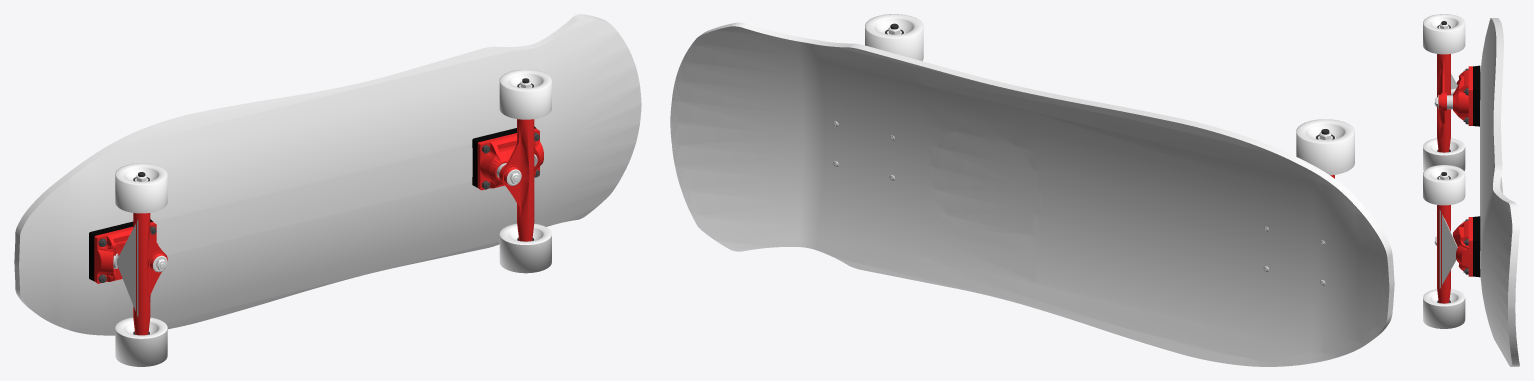
File: roskopp.fbx
The picture shows the model from 3 angles, left to right: view 1: azimuth 30°, elevation 25°; view 2: azimuth 150°, elevation 25°; view 3: azimuth 270°, elevation 25°; orthographic projection. The views are drawn at different scales.
Parts seen in each view (by area): view 1: Group_001, Group_017, Group_013, Group_025, Group_005, Group_012, Group_024, Group_021, Group_009, Group_003, Group_011, Group_023; view 2: Group_001, Group_013, Group_025; view 3: Group_001, Group_025, Group_013, Group_024, Group_005, Group_012, Group_009, Group_021, Group_017, Group_015, Group_023, Group_011.
Part boxes in pixels (left/top/right/bottom): Group_001: left=14, top=14, right=641, bottom=335; Group_017: left=499, top=119, right=534, bottom=241; Group_013: left=115, top=163, right=167, bottom=213; Group_025: left=499, top=69, right=551, bottom=119; Group_005: left=133, top=213, right=167, bottom=335; Group_012: left=115, top=317, right=167, bottom=366; Group_024: left=499, top=223, right=551, bottom=273; Group_021: left=477, top=128, right=543, bottom=190; Group_009: left=94, top=222, right=157, bottom=283; Group_003: left=117, top=219, right=138, bottom=317; Group_011: left=89, top=219, right=152, bottom=281; Group_023: left=472, top=126, right=535, bottom=187; Group_001: left=670, top=22, right=1394, bottom=366; Group_013: left=1296, top=119, right=1354, bottom=175; Group_025: left=865, top=14, right=923, bottom=61; Group_001: left=1480, top=18, right=1519, bottom=366; Group_025: left=1423, top=165, right=1465, bottom=205; Group_013: left=1423, top=14, right=1465, bottom=54; Group_024: left=1423, top=289, right=1465, bottom=328; Group_005: left=1434, top=54, right=1450, bottom=152; Group_012: left=1423, top=138, right=1465, bottom=170; Group_009: left=1453, top=66, right=1472, bottom=125; Group_021: left=1453, top=217, right=1472, bottom=276; Group_017: left=1434, top=205, right=1450, bottom=303; Group_015: left=1439, top=209, right=1457, bottom=288; Group_023: left=1473, top=216, right=1480, bottom=277; Group_011: left=1473, top=65, right=1480, bottom=126.
Size of the model in its own units: 31.65 by 9.86 by 5.22.
